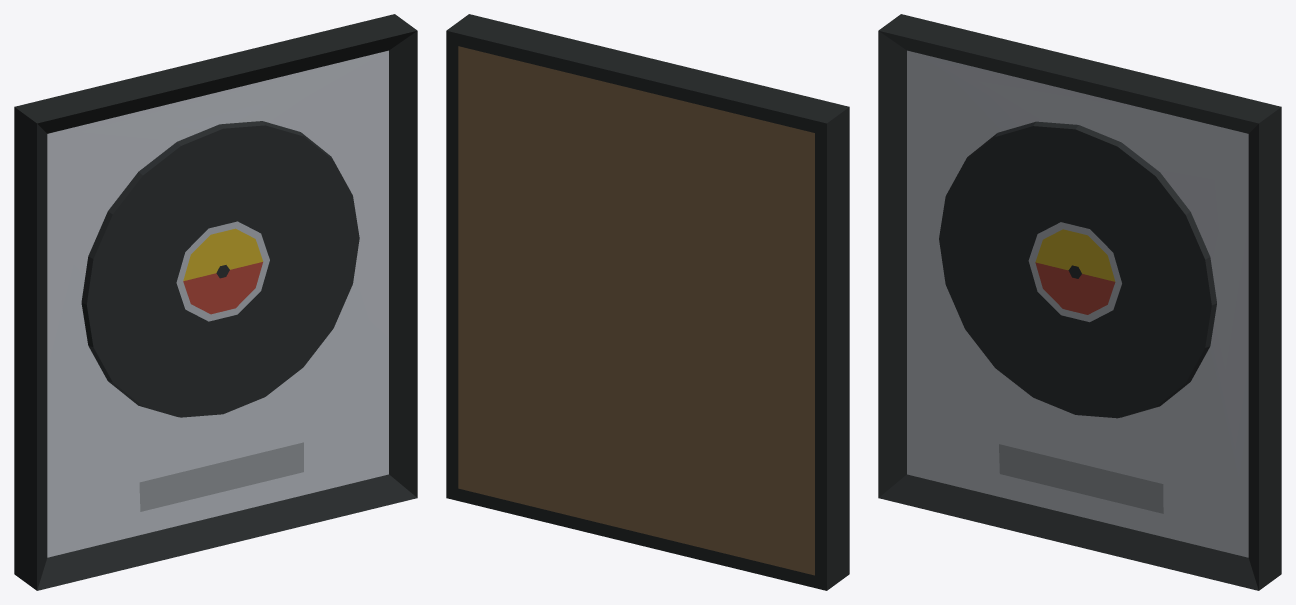
Rendered from SM_Prop_Music_Framed_Record_01.obj.
3 renders of one model, left to right at view 1: azimuth 30°, elevation 25°; view 2: azimuth 150°, elevation 25°; view 3: azimuth 330°, elevation 25°, orthographic.
Visible parts, largest first — view 1: SM_Prop_Music_Framed_Record_01_0; view 2: SM_Prop_Music_Framed_Record_01_0; view 3: SM_Prop_Music_Framed_Record_01_0.
Part boxes in pixels (x1,y1,x2,y2): SM_Prop_Music_Framed_Record_01_0: (14,14,417,590); SM_Prop_Music_Framed_Record_01_0: (446,14,849,590); SM_Prop_Music_Framed_Record_01_0: (878,14,1281,590).
Size of the model in its own units: 0.7258 by 0.8519 by 0.0753.
1 material, 1 textured.
